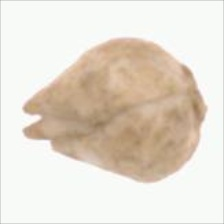L1: (21, 100, 65, 154), (181, 64, 208, 130)
L2: (21, 37, 207, 183)
